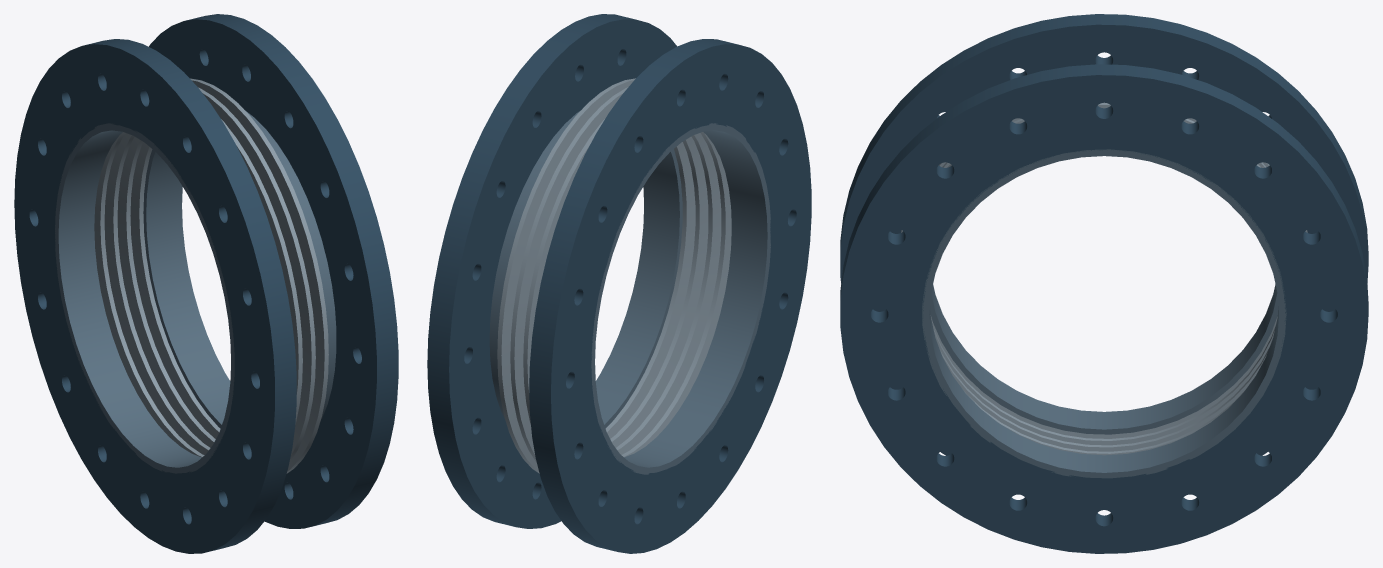
Rendered from flan-dn500-L210-D530-f.glb.
3 renders of one model, left to right at view 1: azimuth 30°, elevation 25°; view 2: azimuth 150°, elevation 25°; view 3: azimuth 270°, elevation 25°, orthographic.
Parts seen in each view (by area): view 1: homut_flanec_1, homut_flanec_2, prokladka_silfon_1, patrubok_1, patrubok_2; view 2: homut_flanec_1, homut_flanec_2, prokladka_silfon_1, patrubok_1, patrubok_2; view 3: homut_flanec_2, homut_flanec_1, patrubok_2, patrubok_1, prokladka_silfon_1.
Boxes of the visible parts, x1=… form: homut_flanec_1: x1=14, y1=39, x2=296, y2=553; homut_flanec_2: x1=149, y1=14, x2=398, y2=528; prokladka_silfon_1: x1=94, y1=78, x2=328, y2=473; patrubok_1: x1=55, y1=123, x2=234, y2=473; patrubok_2: x1=143, y1=110, x2=336, y2=428; homut_flanec_1: x1=529, y1=39, x2=811, y2=553; homut_flanec_2: x1=427, y1=14, x2=676, y2=528; prokladka_silfon_1: x1=497, y1=78, x2=731, y2=473; patrubok_1: x1=591, y1=123, x2=770, y2=474; patrubok_2: x1=489, y1=110, x2=682, y2=428; homut_flanec_2: x1=840, y1=64, x2=1368, y2=553; homut_flanec_1: x1=840, y1=14, x2=1368, y2=455; patrubok_2: x1=922, y1=149, x2=1286, y2=478; patrubok_1: x1=930, y1=284, x2=1278, y2=434; prokladka_silfon_1: x1=901, y1=102, x2=1307, y2=455.
Bounding box in the file's own units: 210 × 768 × 768.
